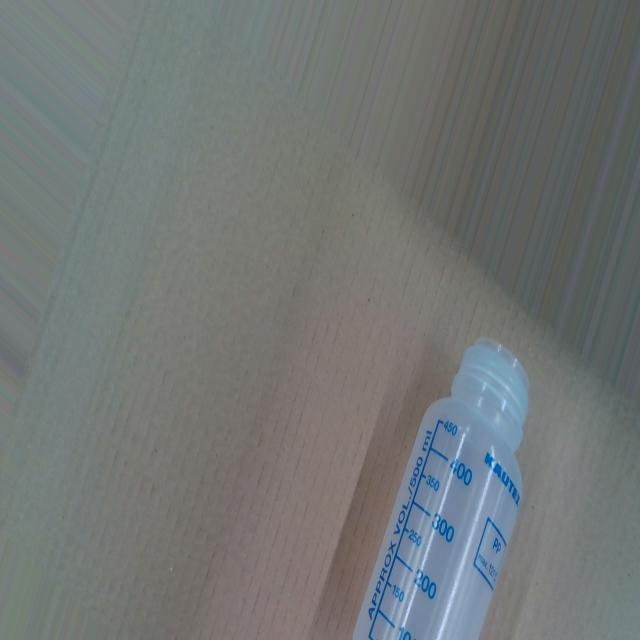bottle: (344, 335, 530, 640)
